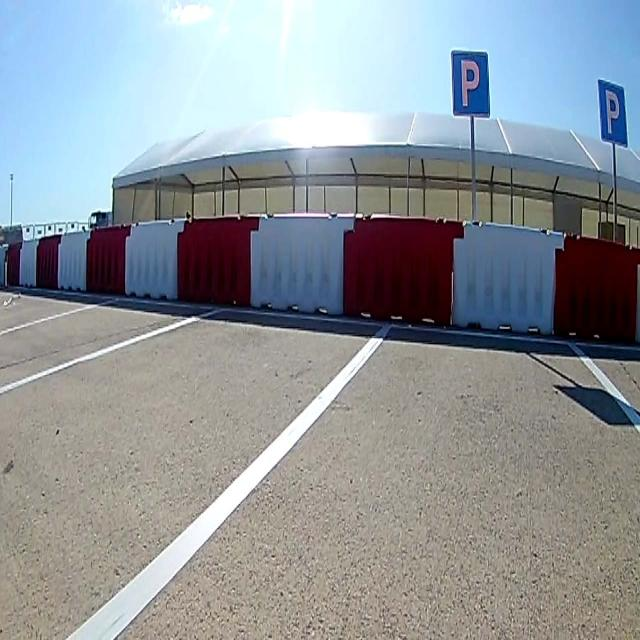park: (451, 51, 491, 117), (598, 81, 627, 147)
